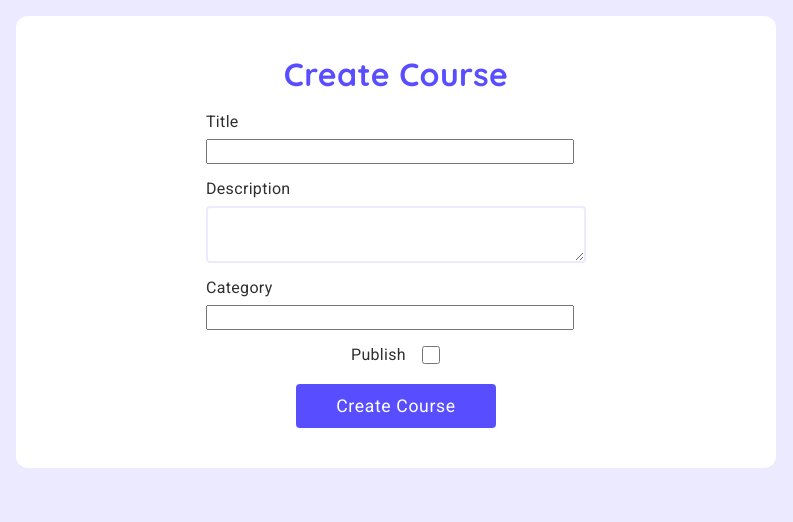
Test case: CourseForm Component › handles successful course creation
In the field labelled "Title": coordinates (390, 151) [206,139,574,164], type "New Course"
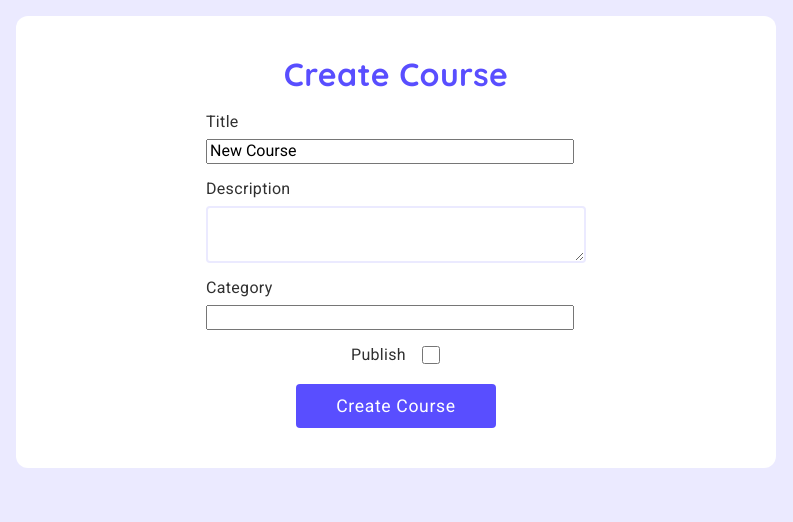
In the text box labelled "Description": coordinates (396, 234) [206,206,586,263], type "New Description"
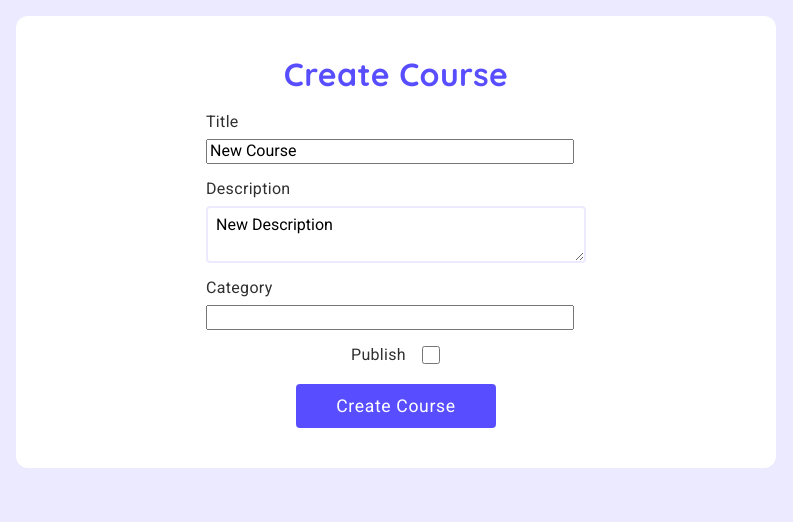
In the field labelled "Category": coordinates (390, 317) [206,305,574,330], type "Science"
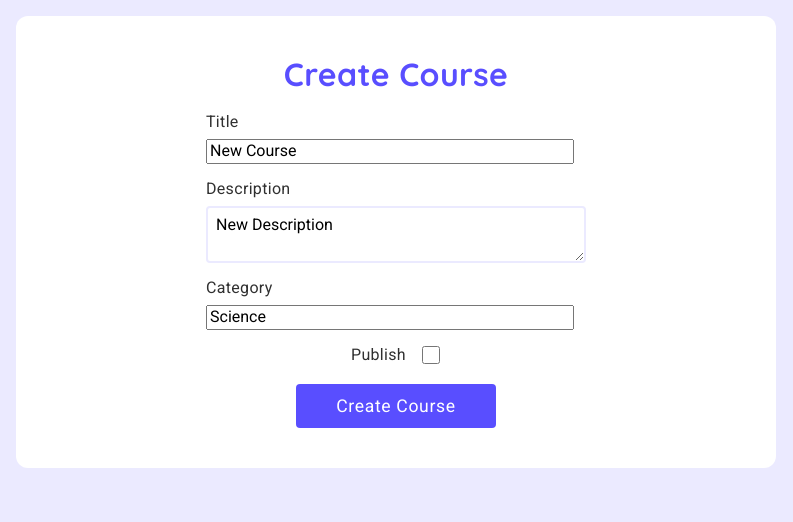
Click the checkbox labelled "Publish": coordinates (431, 355) [421,346,441,364]
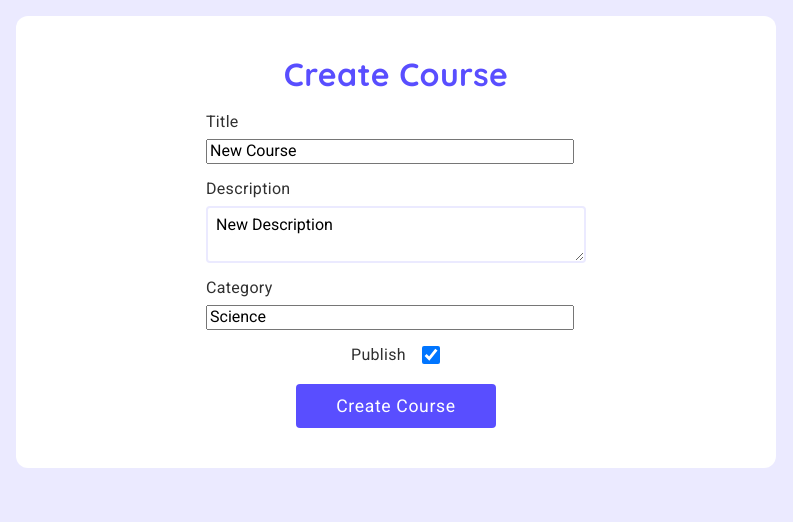
Click the button "Create Course": coordinates (396, 406) [296,384,496,428]
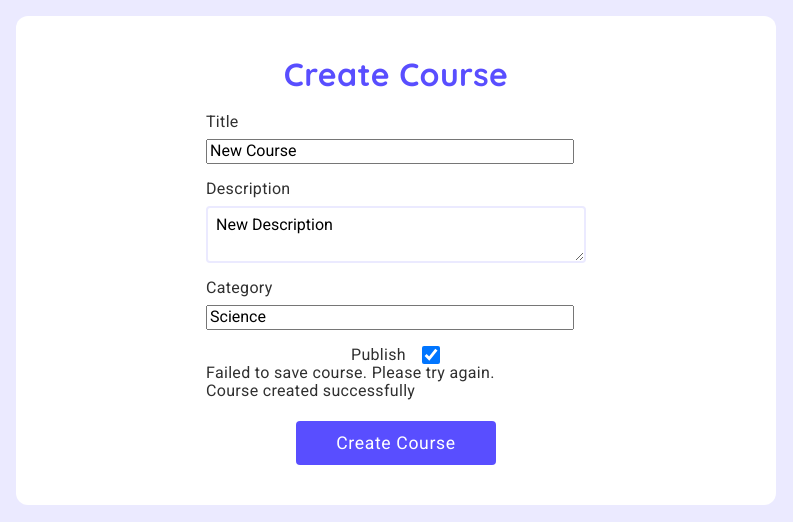
expect the text "Course created successfully" is shown: met, box [206,381,415,400]
